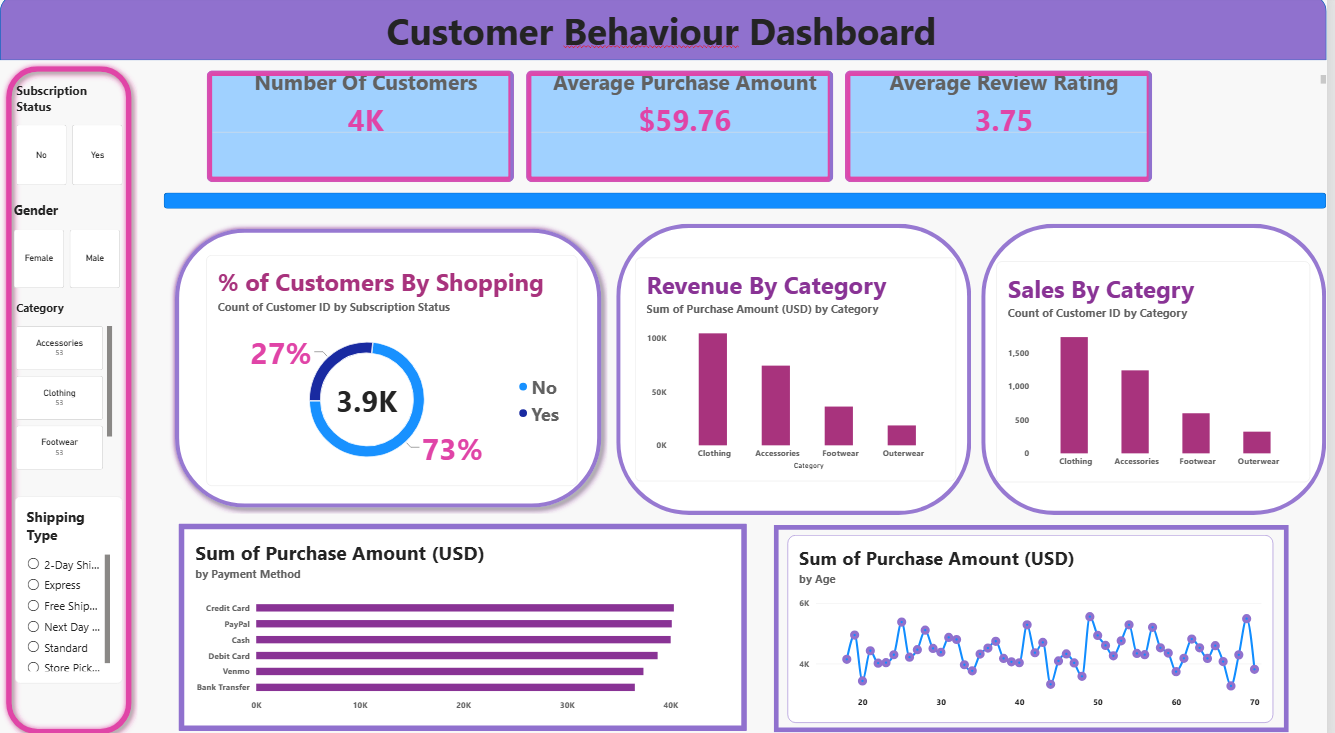

This screenshot's page, from the dashboard's own definition file:
{"tool":"powerbi","page":{"name":"Page 1","canvas":[1920,1080],"ordinal":0},"visuals":[{"type":"cardVisual","fields":{"Data":["customer_shopping.Number Of Customers","customer_shopping.Average Purchase Amount","customer_shopping.Average Review Rating"]},"box":[298.2,108.8,1372.3,163.2],"z":0},{"type":"shape","box":[0,0,1920.4,94.7],"z":1000},{"type":"textbox","box":[0,115.8,1920.1,12.7],"z":2000},{"type":"shape","box":[237.8,286.1,1683,23.5],"z":3000},{"type":"shape","box":[243.8,328.5,635.2,421.7],"z":4000},{"type":"donutChart","title":"% of Customers By Shopping","fields":{"Category":["customer_shopping.Subscription Status"],"Y":["CountNonNull(customer_shopping.Customer ID)"]},"box":[298.2,376.8,537.5,334.8],"z":5000},{"type":"shape","box":[892.7,330.5,513.9,421.7],"z":6000},{"type":"shape","box":[1420.7,330.5,499.5,421.7],"z":7000},{"type":"clusteredColumnChart","title":"Revenue By Category","fields":{"Category":["customer_shopping.Category"],"Y":["Sum(customer_shopping.Purchase Amount (USD))"]},"box":[918.9,380.9,465.1,323.9],"z":8000},{"type":"clusteredColumnChart","title":"Sales By Categry","fields":{"Category":["customer_shopping.Category"],"Y":["CountNonNull(customer_shopping.Customer ID)"]},"box":[1442.8,384.9,454.2,320.3],"z":9000},{"type":"shape","box":[0,94.7,199.5,985.4],"z":10000},{"type":"advancedSlicerVisual","fields":{"Values":["customer_shopping.Subscription Status"]},"box":[24.2,127,155.2,149.1],"z":11000},{"type":"advancedSlicerVisual","fields":{"Values":["customer_shopping.Gender"]},"box":[20.2,298.2,155.6,126.7],"z":12000},{"type":"advancedSlicerVisual","title":"Category","fields":{"Label":["Count(customer_shopping.Age)"],"Values":["customer_shopping.Category"]},"box":[24.2,441.3,139.3,247.9],"z":13000},{"type":"listSlicer","fields":{"Values":["customer_shopping.Shipping Type"]},"box":[22.2,725.4,155.6,271.4],"z":14000},{"type":"barChart","fields":{"Category":["customer_shopping.Payment Method"],"Y":["Sum(customer_shopping.Purchase Amount (USD))"]},"box":[257.9,765.7,822.2,300.3],"z":14001},{"type":"lineChart","fields":{"Category":["customer_shopping.Age"],"Y":["Sum(customer_shopping.Purchase Amount (USD))"]},"box":[1140.6,781.9,703.3,272],"z":14002},{"type":"shape","box":[1120.4,767.8,745.6,300.3],"z":14003},{"type":"textbox","box":[243.8,14.1,1426.7,264],"z":14004}]}

Visuals, with their boxes in screenshot pixels (x1, y1, x2, y2), scaled from the page's 1920x1080 canvas onto the 1335x733 screenshot:
cardVisual - customer_shopping.Number Of Customers x customer_shopping.Average Purchase Amount: x1=207 y1=74 x2=1162 y2=185
shape: x1=0 y1=0 x2=1334 y2=64
textbox: x1=0 y1=79 x2=1334 y2=87
shape: x1=165 y1=194 x2=1334 y2=210
shape: x1=170 y1=223 x2=611 y2=509
"% of Customers By Shopping" donutChart: x1=207 y1=256 x2=581 y2=483
shape: x1=621 y1=224 x2=978 y2=511
shape: x1=988 y1=224 x2=1334 y2=511
"Revenue By Category" clusteredColumnChart: x1=639 y1=259 x2=962 y2=478
"Sales By Categry" clusteredColumnChart: x1=1003 y1=261 x2=1319 y2=479
shape: x1=0 y1=64 x2=139 y2=732
advancedSlicerVisual - customer_shopping.Subscription Status: x1=17 y1=86 x2=125 y2=187
advancedSlicerVisual - customer_shopping.Gender: x1=14 y1=202 x2=122 y2=288
"Category" advancedSlicerVisual: x1=17 y1=300 x2=114 y2=468
listSlicer - customer_shopping.Shipping Type: x1=15 y1=492 x2=124 y2=677
barChart - customer_shopping.Payment Method x Sum(customer_shopping.Purchase Amount (USD)): x1=179 y1=520 x2=751 y2=723
lineChart - customer_shopping.Age x Sum(customer_shopping.Purchase Amount (USD)): x1=793 y1=531 x2=1282 y2=715
shape: x1=779 y1=521 x2=1297 y2=725
textbox: x1=170 y1=10 x2=1162 y2=189
